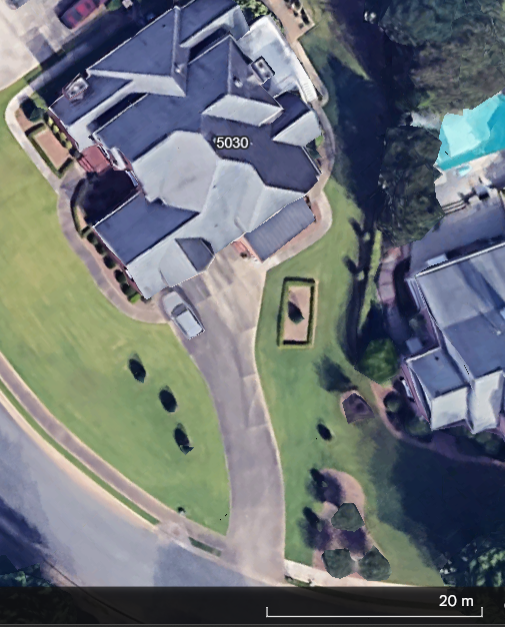driveway: (170, 245, 290, 584)
